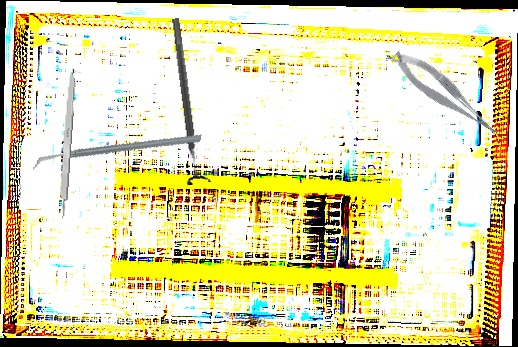Chopper: (32, 91, 203, 212)
Fixation Ring: (163, 16, 212, 186)
Micro Scissor: (388, 40, 501, 149)
Scalpel Handle: (56, 67, 77, 221)
